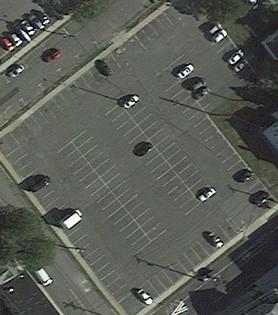parkingspot: (4, 144, 136, 306), (151, 65, 278, 216), (103, 102, 202, 218), (70, 129, 168, 244), (55, 141, 153, 256), (8, 52, 123, 149), (120, 91, 218, 204), (132, 217, 238, 309), (2, 39, 101, 121), (2, 17, 86, 85), (193, 14, 256, 84), (167, 53, 224, 116), (0, 8, 52, 55), (133, 6, 182, 50)
